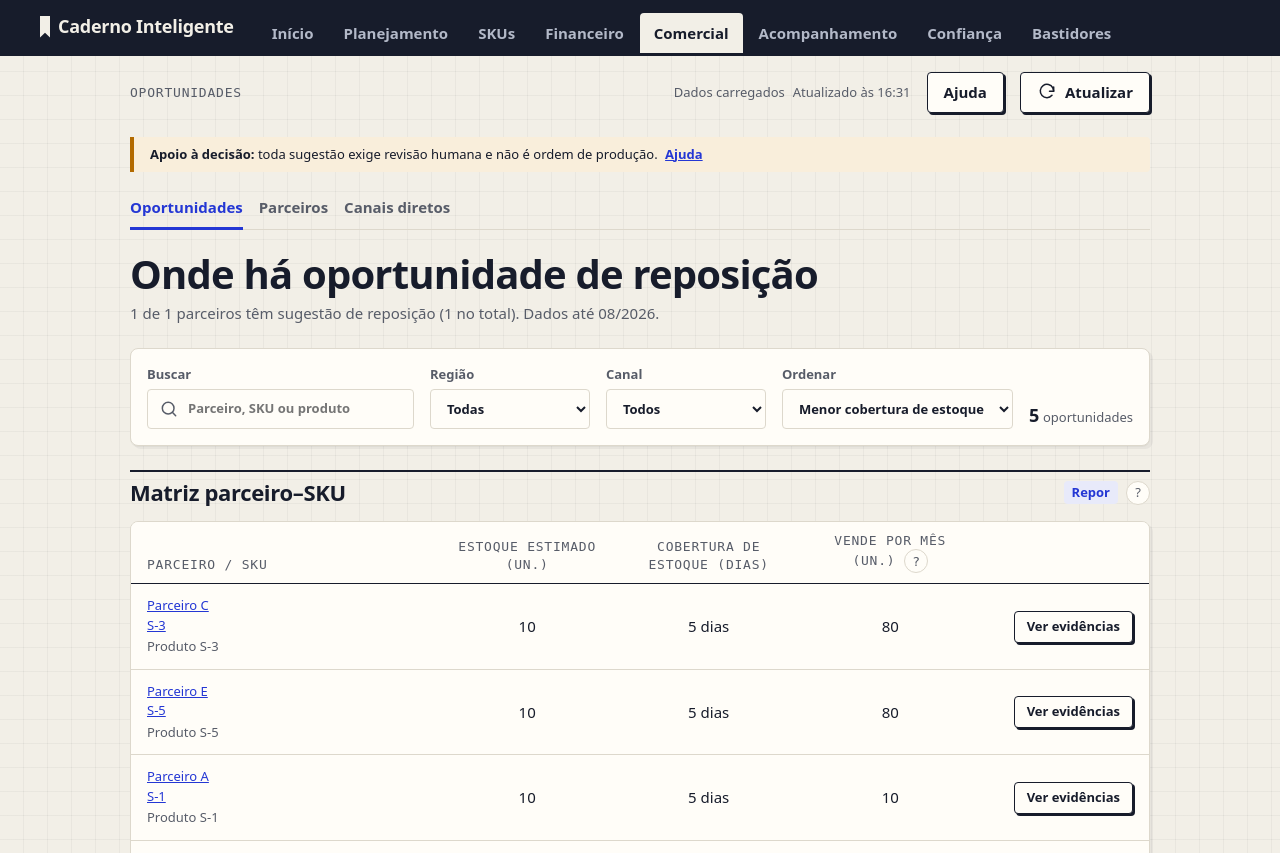
Test: oportunidades: linhas › só uma evidência fica aberta por vez
Click the button with aria-label "Evidências de": (1073, 627) x1=1014 y1=611 x2=1133 y2=643
(page scrolled)
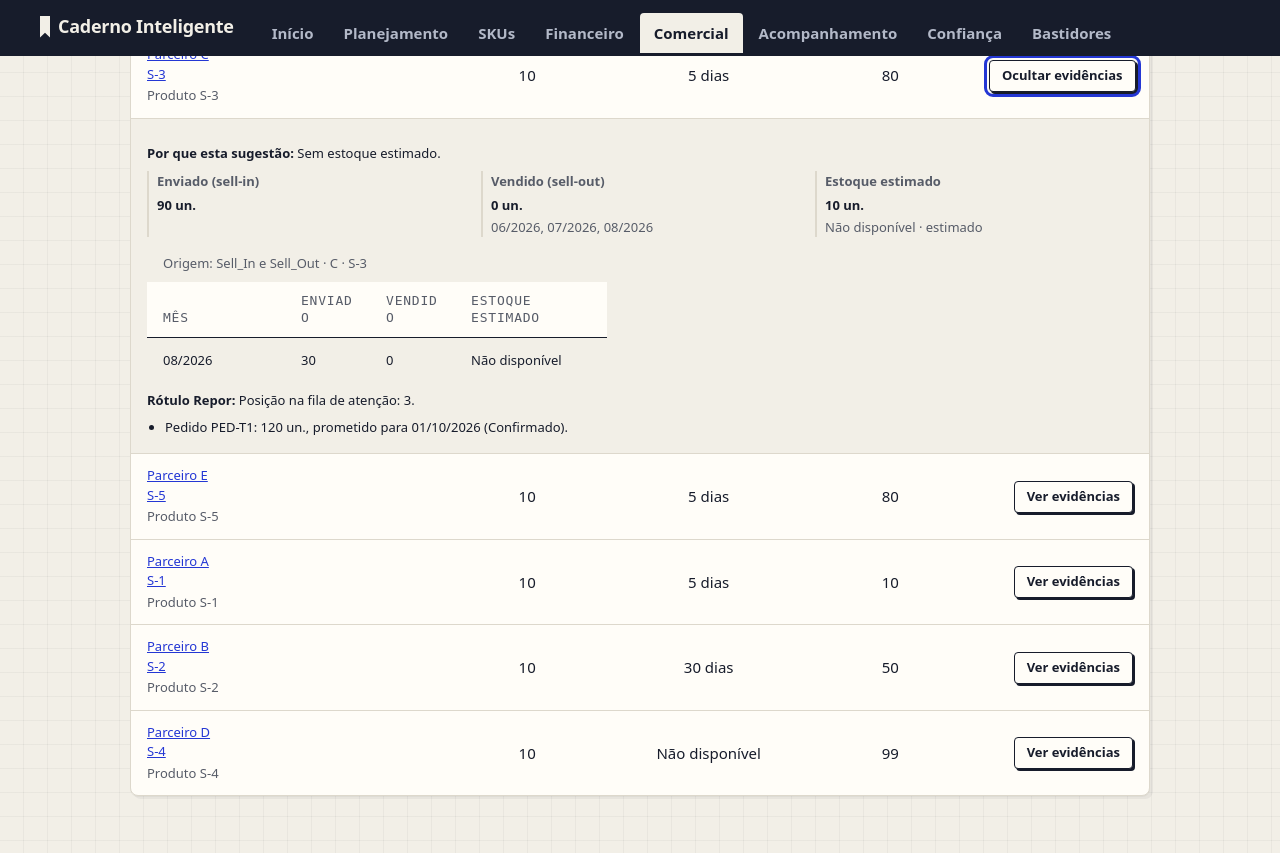
Click the button with aria-label "Evidências de": (1073, 497) x1=1014 y1=481 x2=1133 y2=513
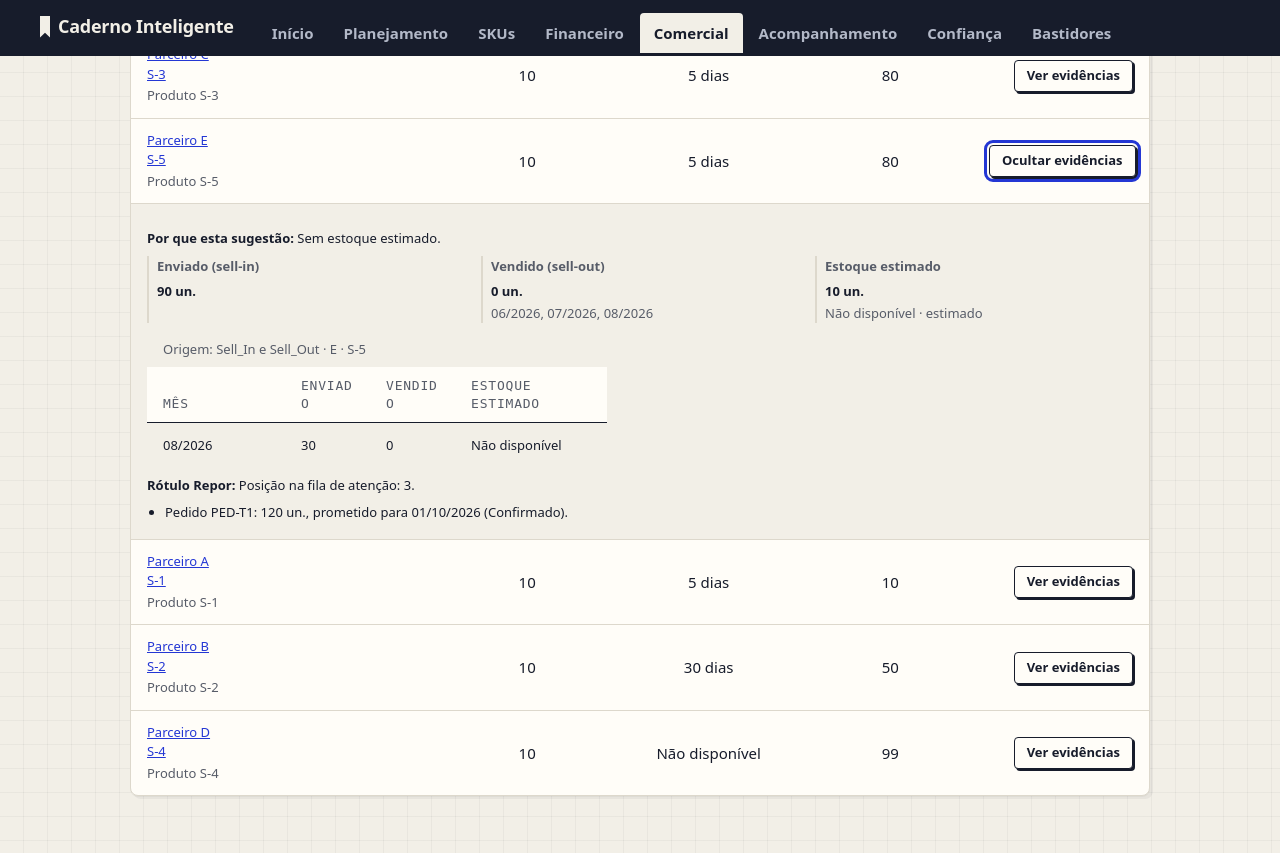
Result: the text "Por que esta sugestão:" is shown once at x1=147 y1=229 x2=294 y2=247
Result: the button with aria-label "Evidências de" is expanded at x1=989 y1=145 x2=1136 y2=177
